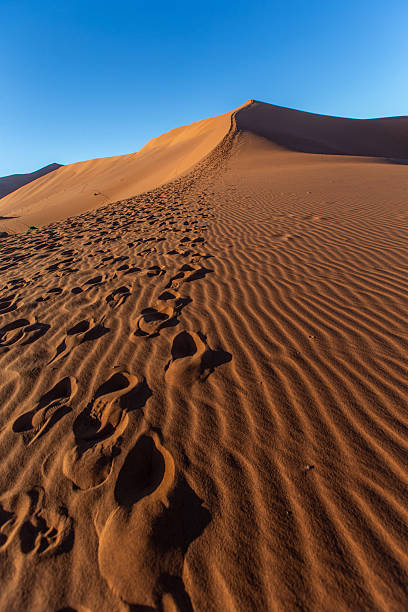human_foot_print: (96, 428, 210, 609), (63, 371, 150, 489), (0, 486, 73, 555), (12, 376, 77, 445), (165, 331, 231, 383), (130, 291, 190, 339), (48, 317, 108, 364), (0, 316, 49, 348)
